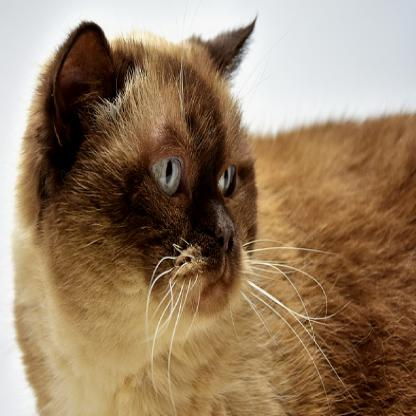cat: (14, 11, 415, 415)
